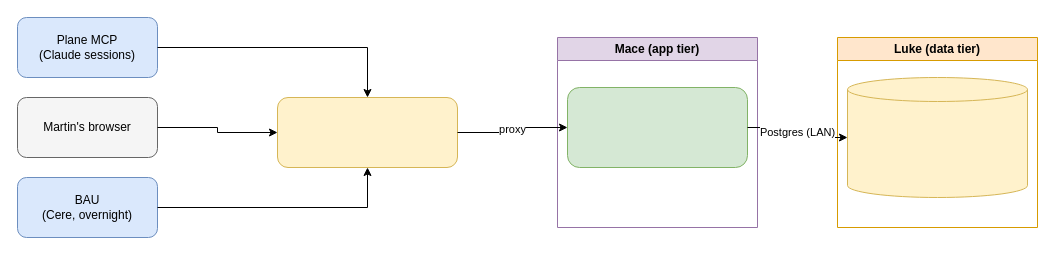
This 1055x255 diagram has some shape labels left out. The shapes that lost their labels are listed below. From the top down, each one's centre as x and y in pixels, then its label:
the point at 367,132: Leia mTLS vhost atc.plane.home.nakomis.com
the point at 657,127: ATC container FastAPI + web board (image from docker.home.nakomis.com)
the point at 937,137: plane-db (Postgres) schema atc: read/write Plane tables: read only
